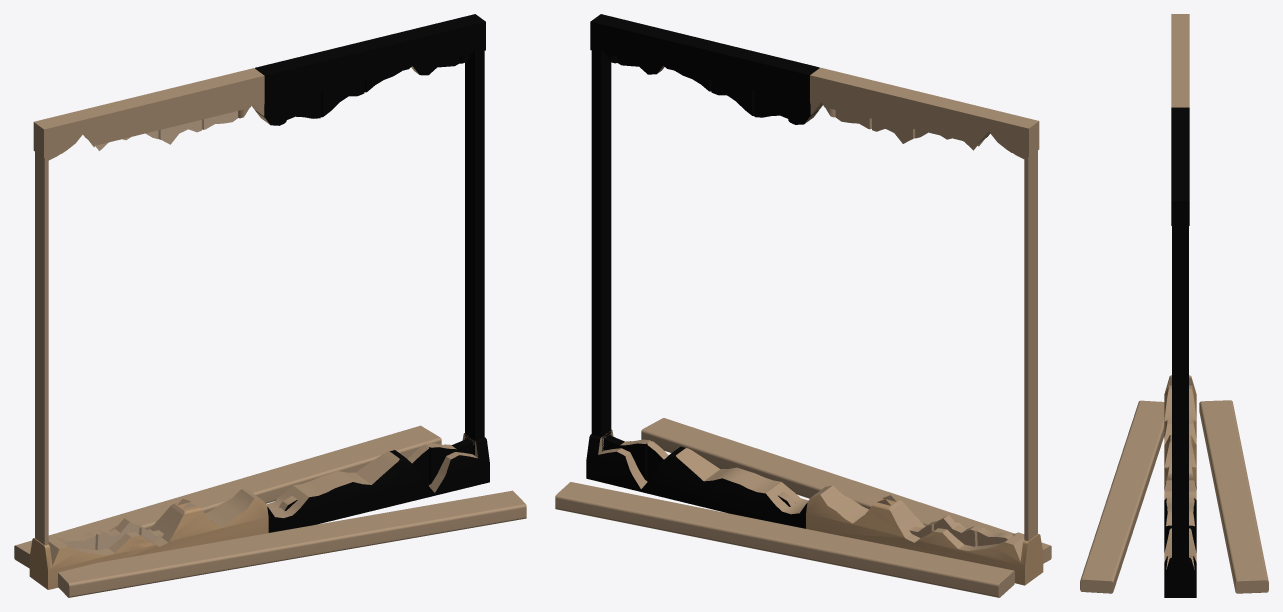
The model's file is SM_Door_Double_Breakable_01_State-3.fbx.
3 views of the same model, side by side, from view 1: azimuth 30°, elevation 25°; view 2: azimuth 150°, elevation 25°; view 3: azimuth 270°, elevation 25° (orthographic). The views are drawn at different scales.
Parts seen in each view (by area): view 1: SM_Door_R.009, SM_Door_R.016, SM_Door_R.011; view 2: SM_Door_R.009, SM_Door_R.016, SM_Door_R.011; view 3: SM_Door_R.016, SM_Door_R.009, SM_Door_R.011.
Part boxes in pixels (x1,y1,x2,y2): SM_Door_R.009: [29, 14, 489, 589]; SM_Door_R.016: [14, 425, 526, 597]; SM_Door_R.011: [29, 69, 267, 589]; SM_Door_R.009: [586, 14, 1043, 585]; SM_Door_R.016: [555, 418, 1051, 597]; SM_Door_R.011: [807, 67, 1043, 578]; SM_Door_R.016: [1080, 400, 1268, 593]; SM_Door_R.009: [1164, 14, 1196, 597]; SM_Door_R.011: [1164, 14, 1196, 483].
Size of the model in its own units: 301 by 298 by 128.
